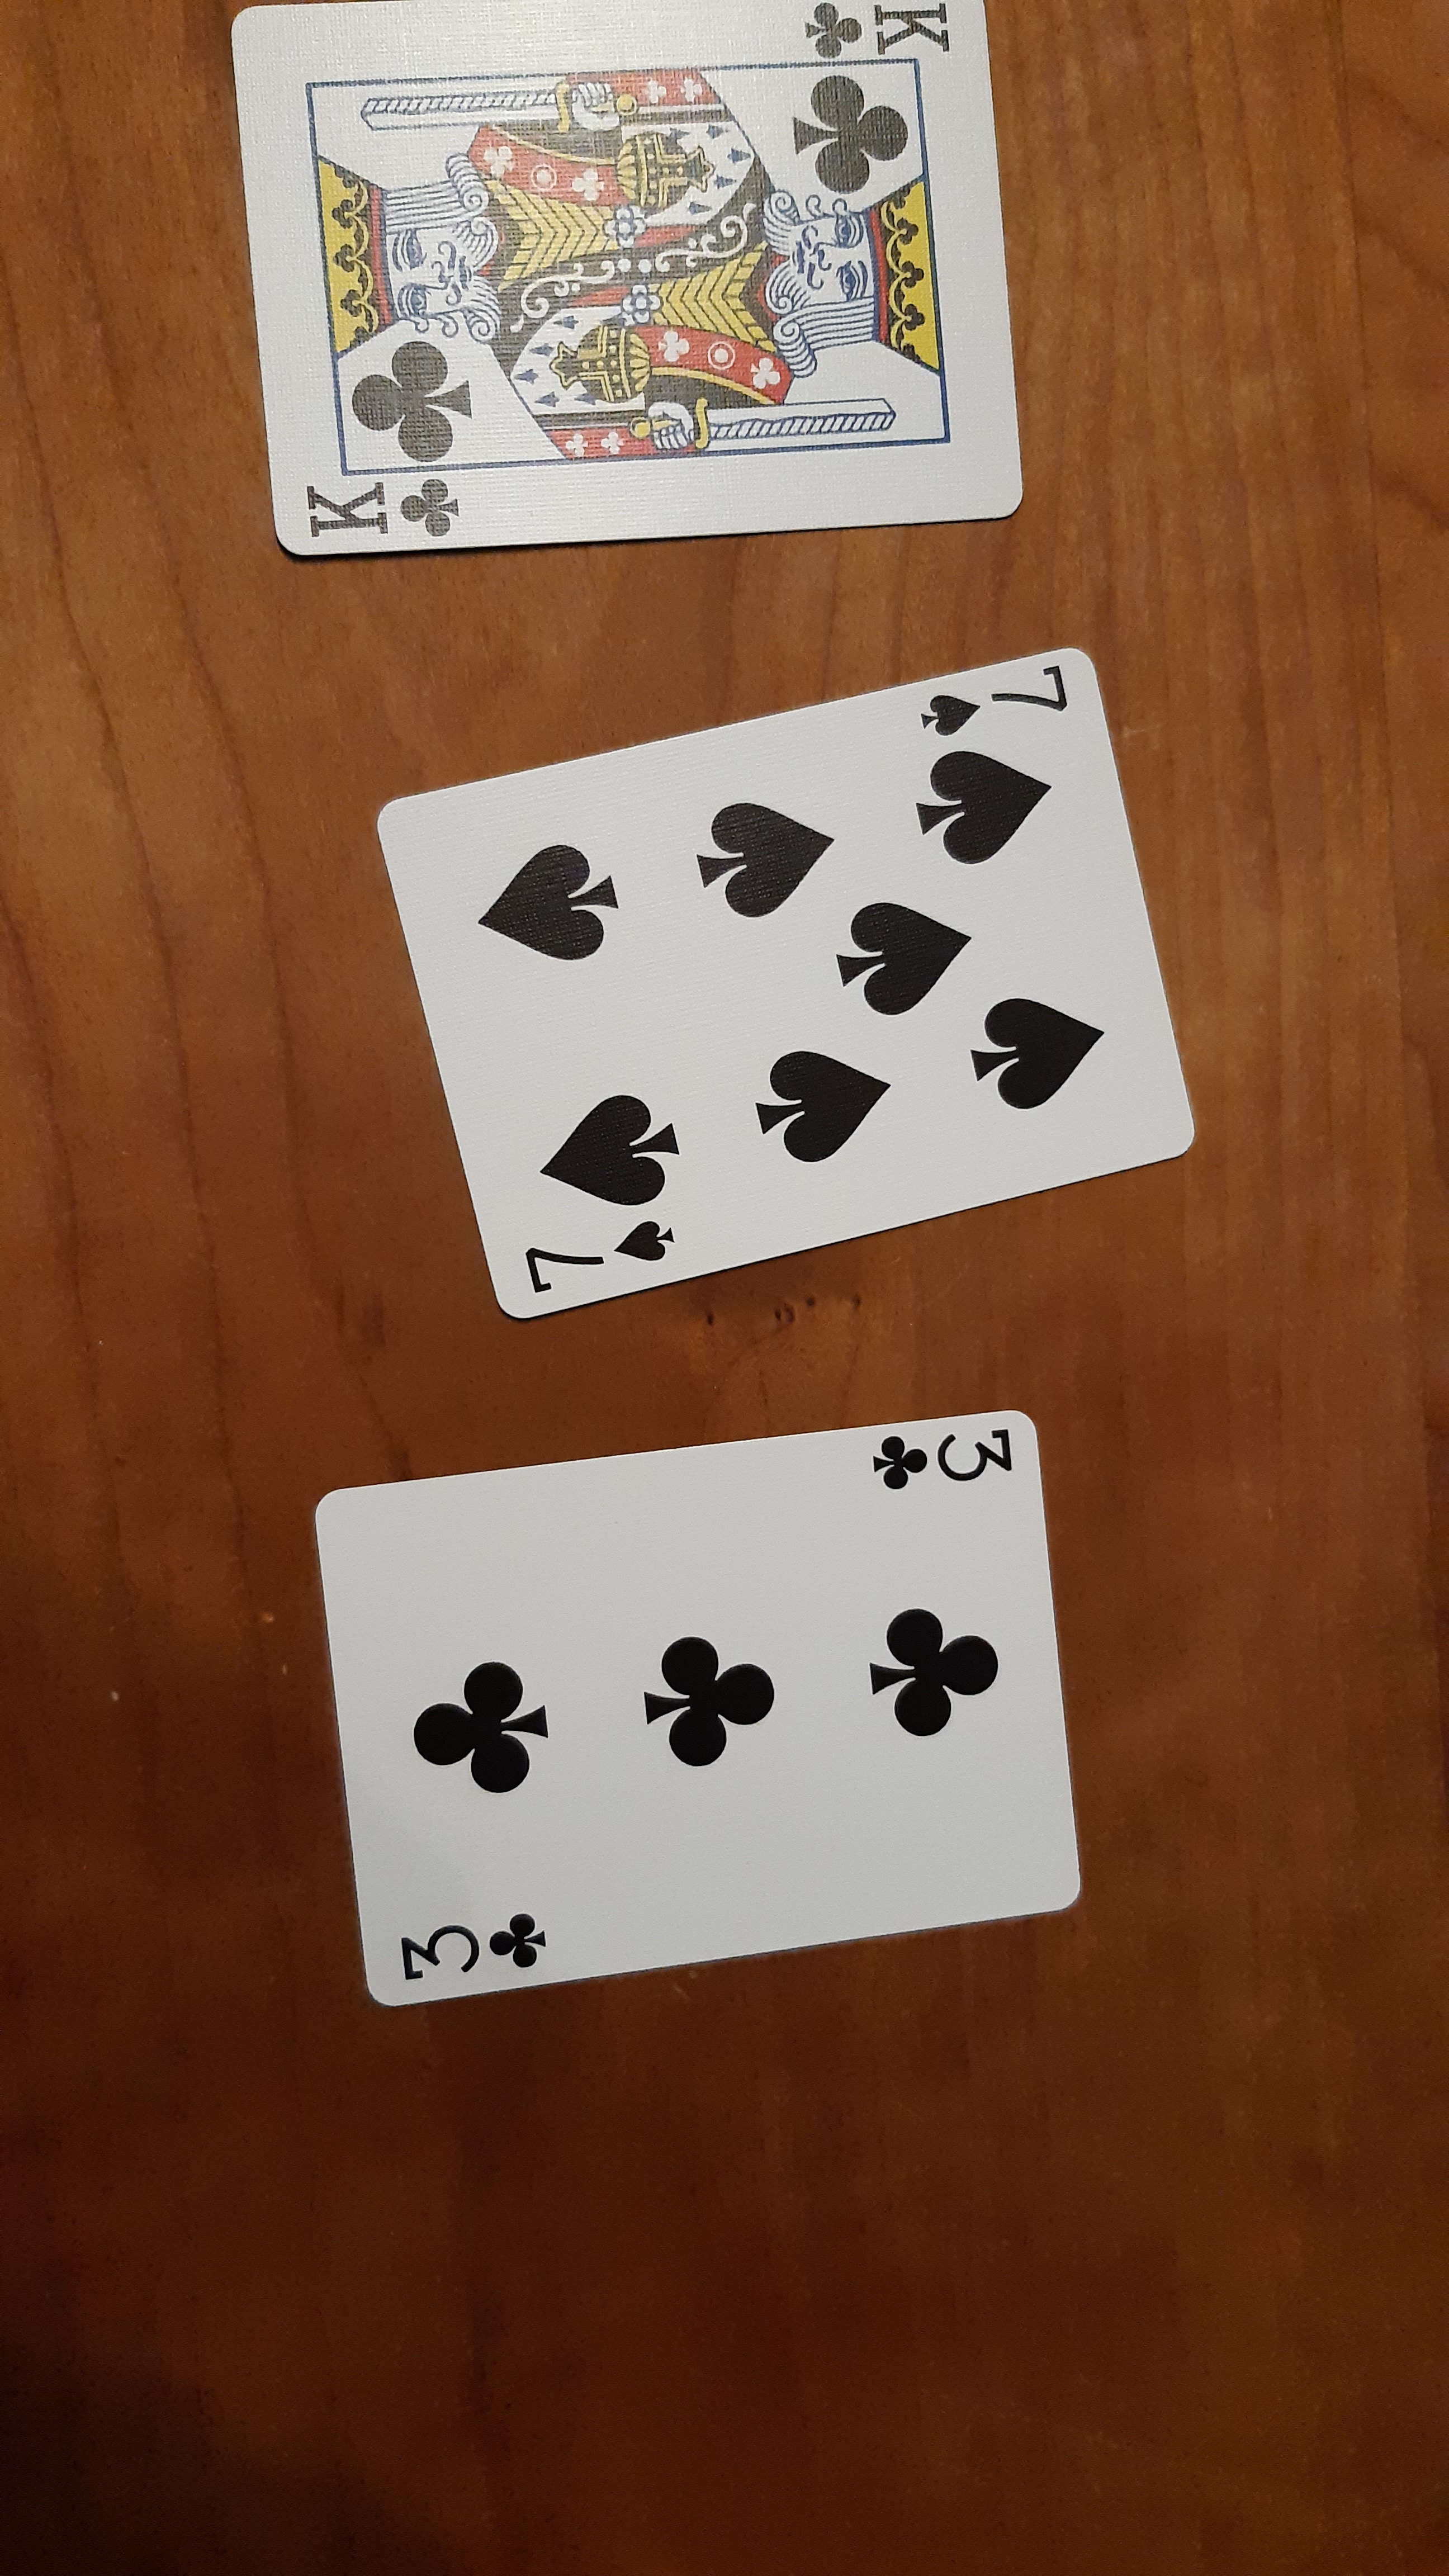Black_Club_3: (382, 1904, 561, 2001), (867, 1414, 1024, 1500)
Black_Club_King: (281, 469, 469, 540), (791, 4, 961, 64)
Black_Spade_7: (499, 1212, 681, 1307), (918, 656, 1074, 740)
